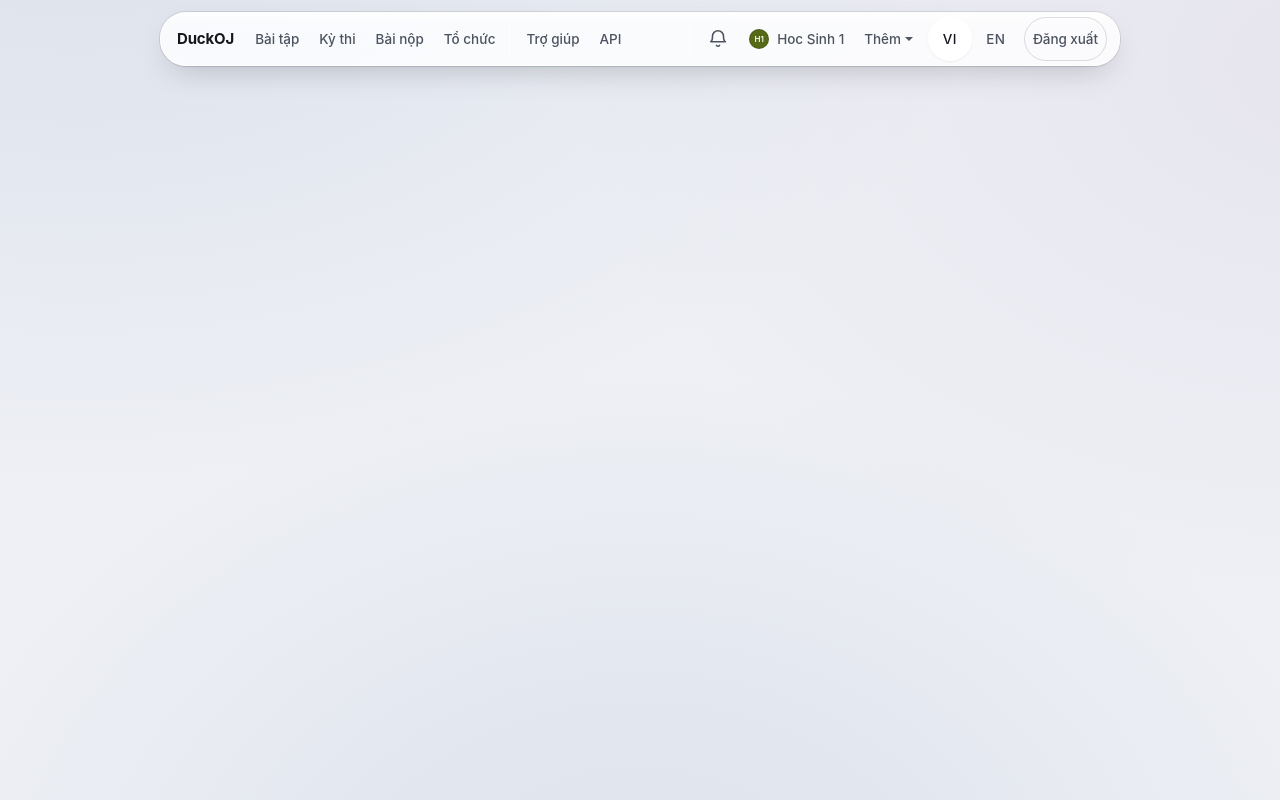
Test: ShellNav › ends the session on the server and puts the shell back to signed out
The image size is (1280, 800).
Click the button "Đăng xuất".
click(1065, 39)  # box x1=1024 y1=17 x2=1107 y2=61
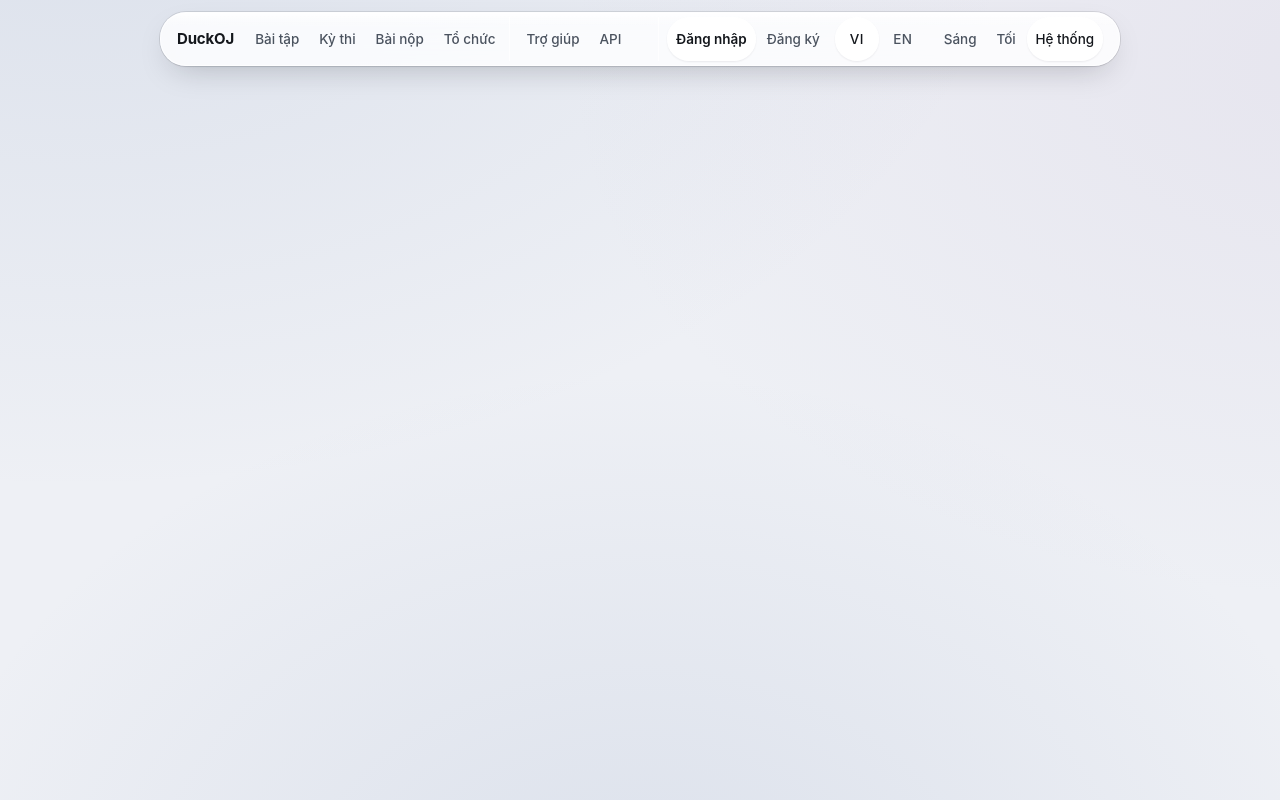
expect the link "Đăng nhập" is shown: met, box x1=667 y1=17 x2=756 y2=61
expect the link "Hoc Sinh 1" is gone: met
